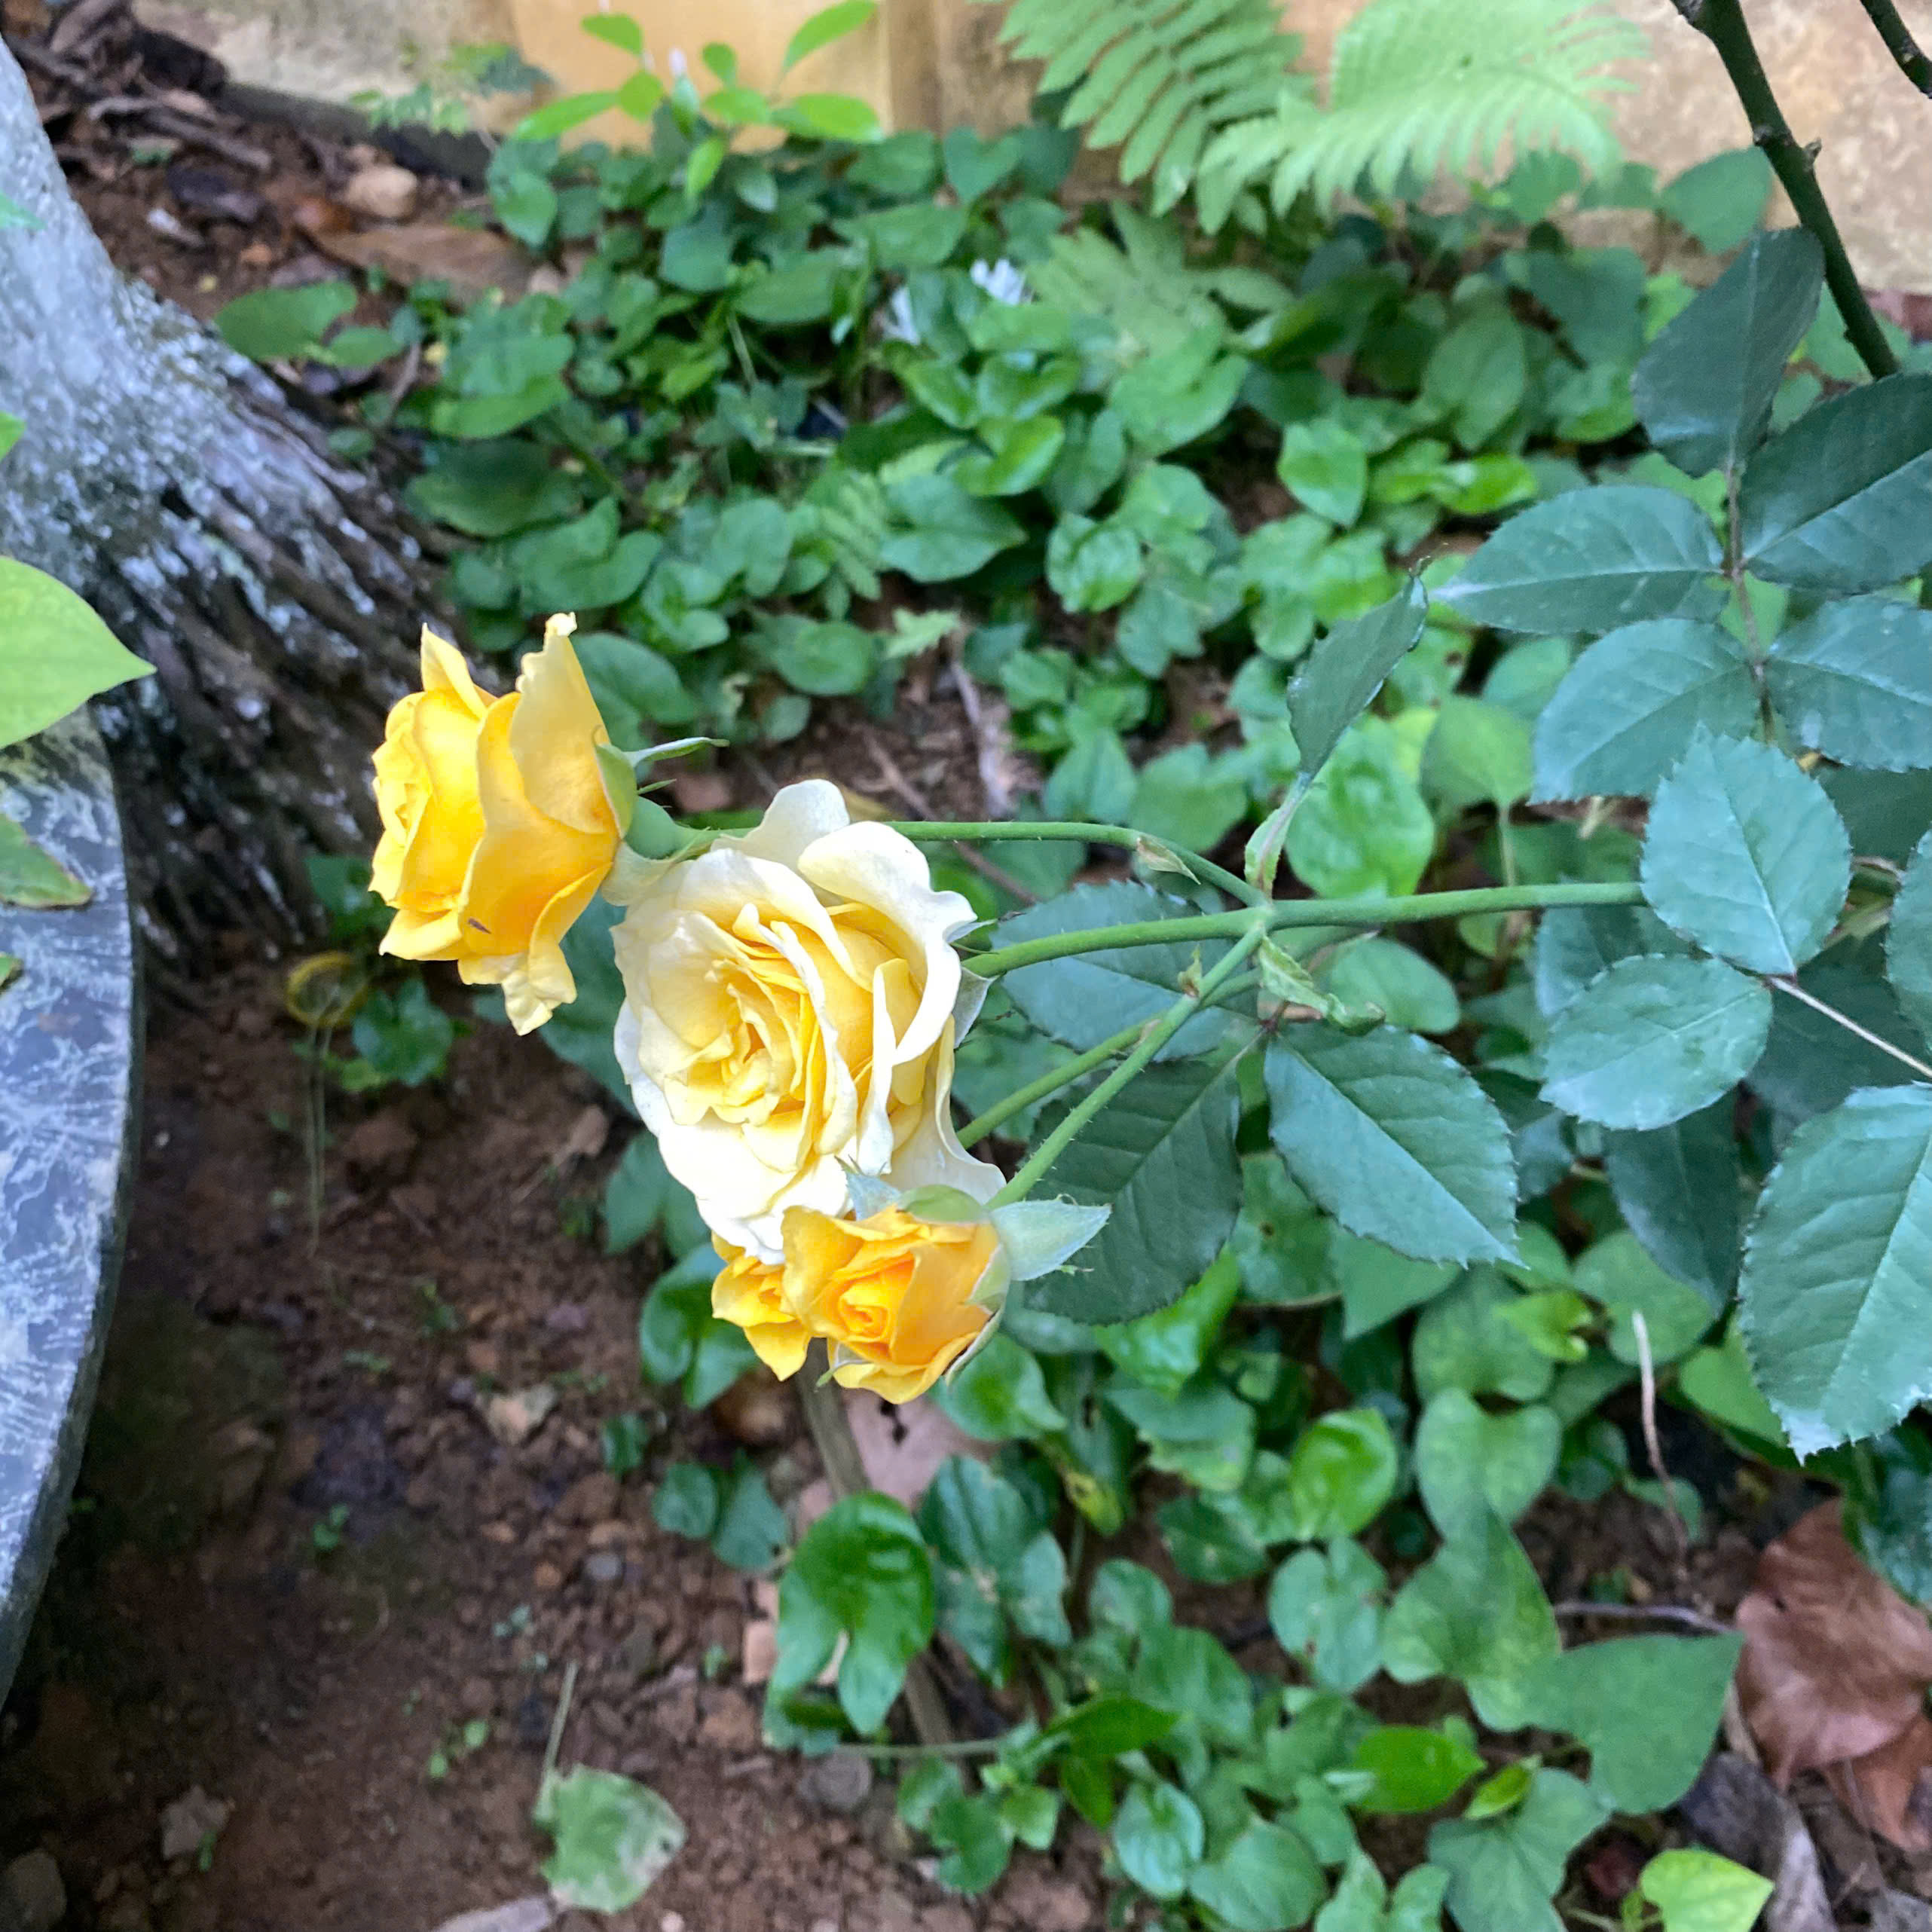hoa_thuoc_duoc: (280, 502, 1932, 1421)
